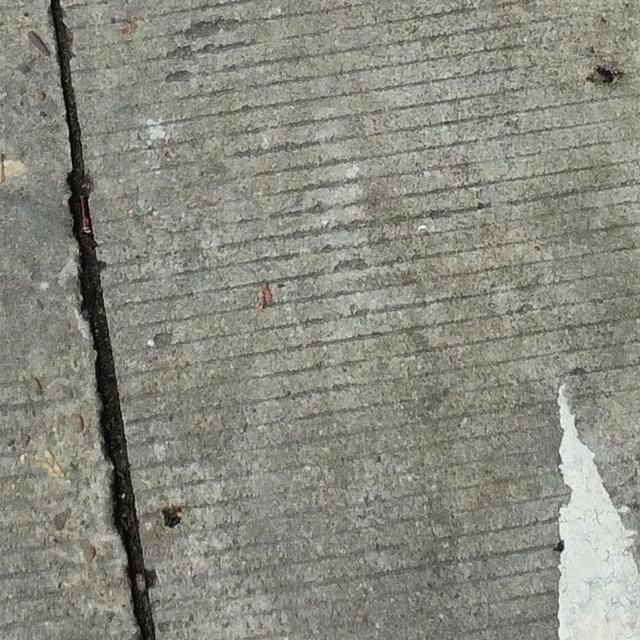LongitudinalCrack: (47, 1, 157, 638)
